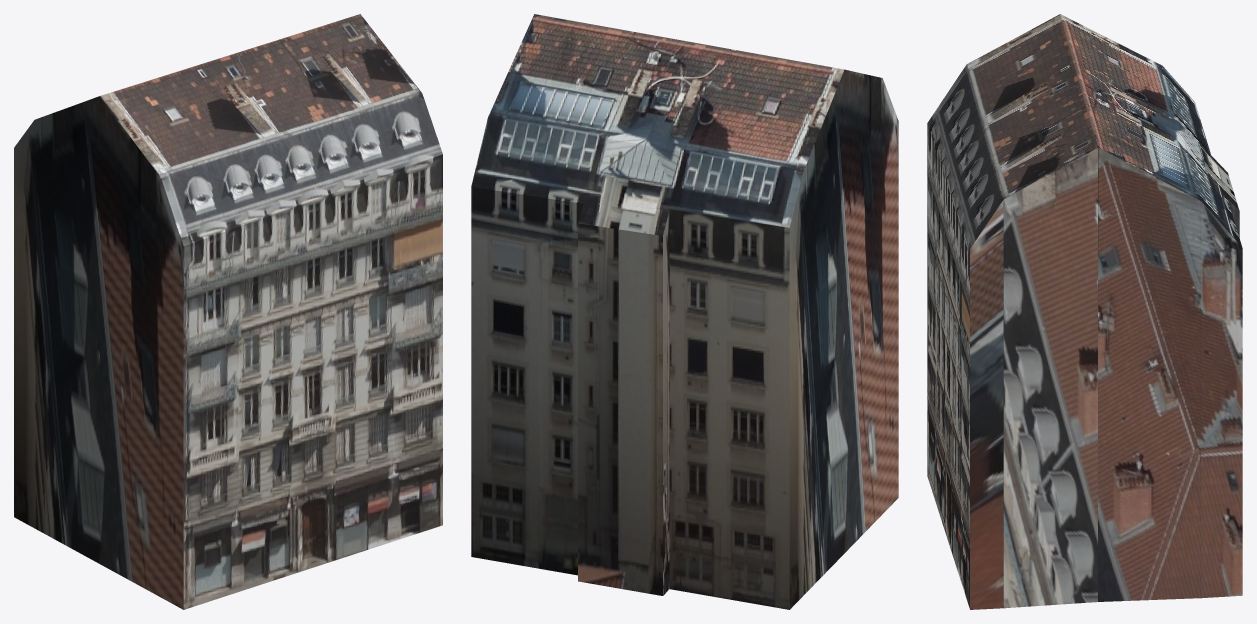
The picture shows the model from 3 angles, left to right: view 1: azimuth 30°, elevation 25°; view 2: azimuth 150°, elevation 25°; view 3: azimuth 270°, elevation 25°; orthographic projection. The views are drawn at different scales.
Visible parts, largest first — view 1: Z_UP; view 2: Z_UP; view 3: Z_UP.
Part boxes in pixels (box(x1,y1,x2,y2)): Z_UP: box(14, 14, 442, 609); Z_UP: box(471, 14, 898, 609); Z_UP: box(927, 14, 1242, 609).
Bounding box in the file's own units: 20.52 × 29.27 × 18.37.
2 materials, 1 textured.
